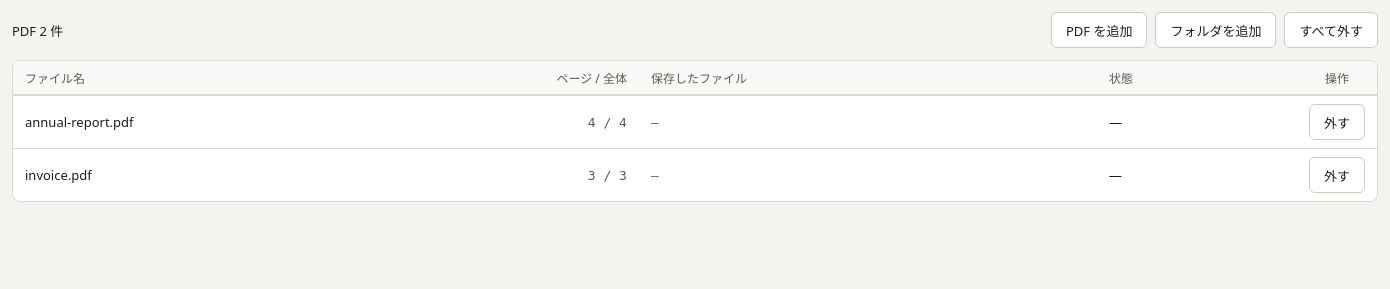
Scenario: PdfToImagesView › single PDF mode (PdfSingle) › keeps items in list and displays error when remove_items fails on 'すべて外す' in batch view
This screenshot has width=1390, height=289.
Click the button "すべて外す": (1331, 30) [1284, 12, 1378, 48]
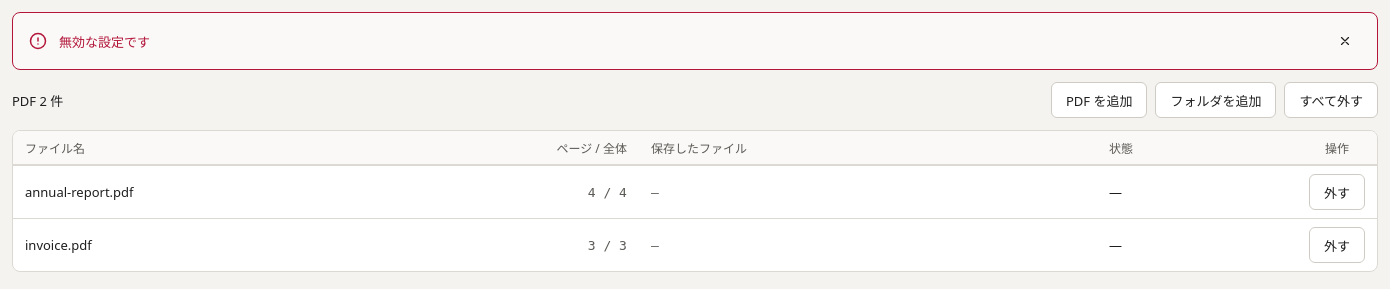
Expected: the text "annual-report.pdf" is shown, [13, 166, 519, 218]
Expected: the message "無効な設定です" is shown, [12, 12, 1378, 70]
Expected: the text "無効な設定です" is shown, [59, 32, 150, 50]
